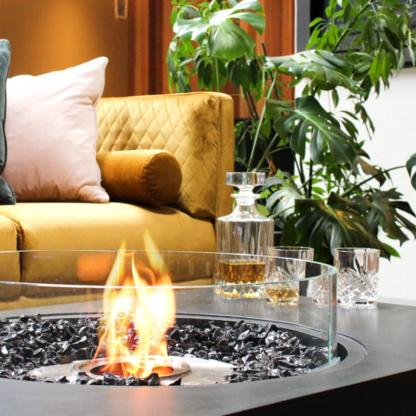fire: (89, 233, 191, 381)
